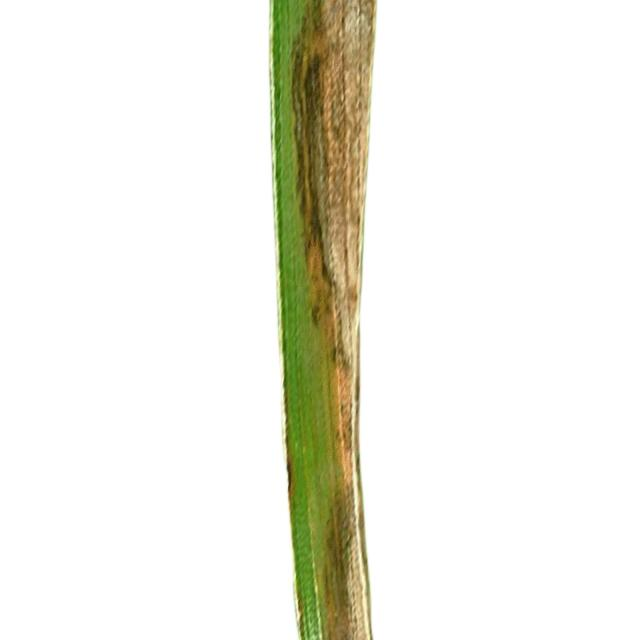Leaf scald: (254, 0, 428, 640)
